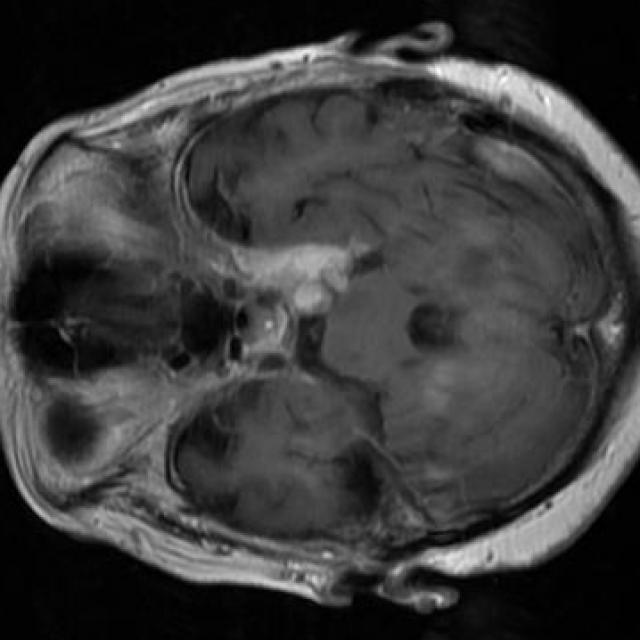meningioma: (235, 244, 369, 314)
